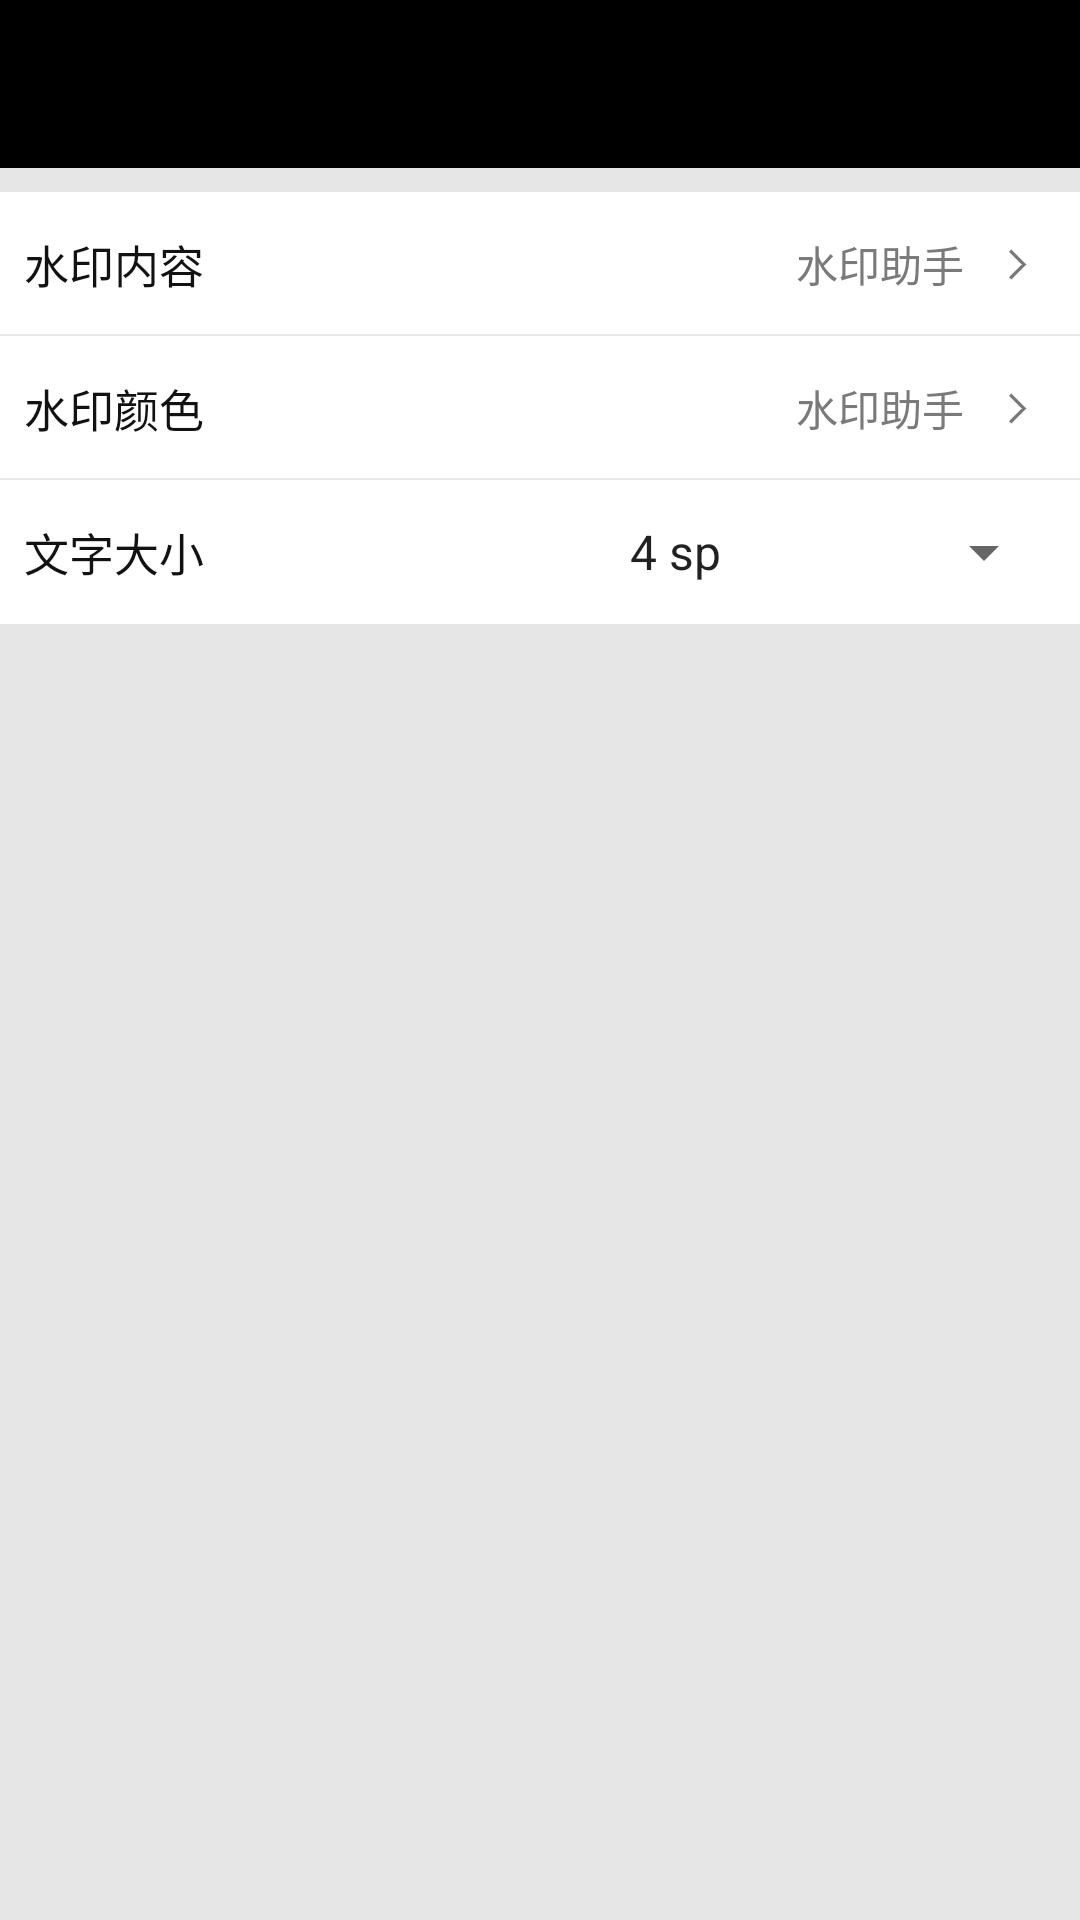

Screen size 1080 x 1920. Icon name, then its box in pixels as (x1, y1, x2, y2):
right arrow: (1009, 249, 1027, 280), (1009, 393, 1027, 424)
